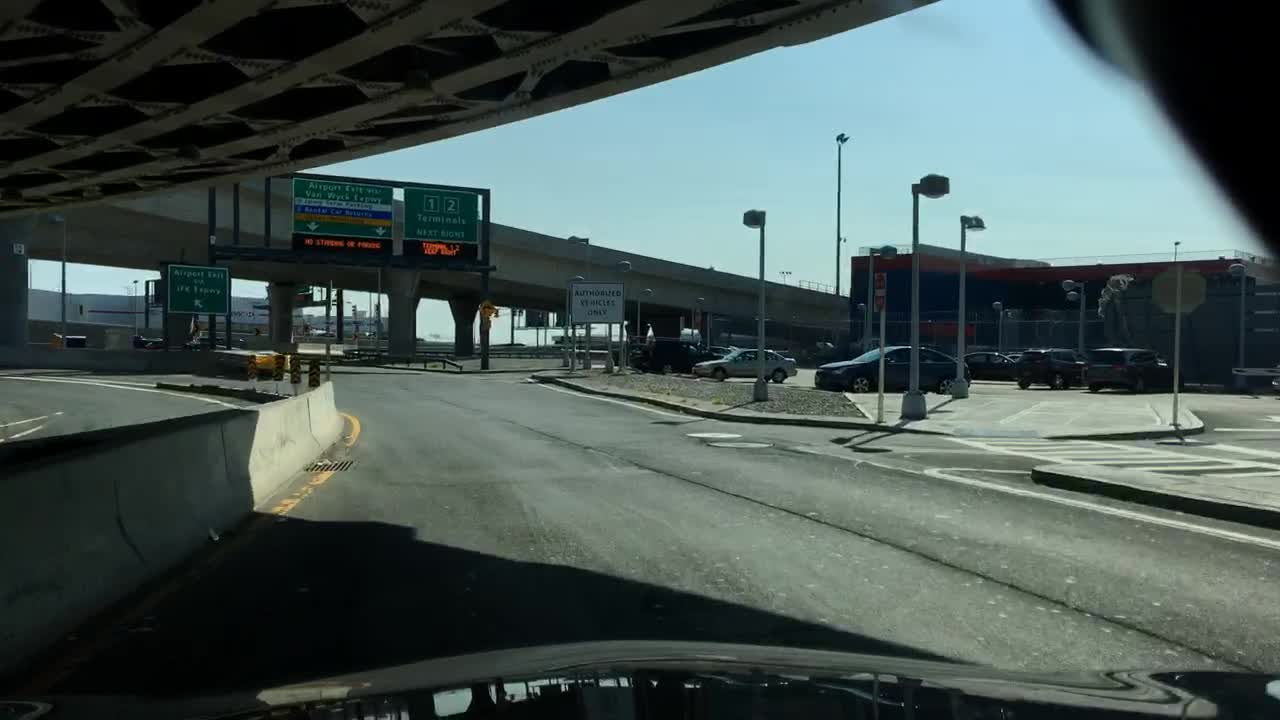car: (814, 346, 969, 393), (692, 348, 799, 383), (1089, 347, 1170, 393), (1016, 347, 1092, 389), (629, 341, 722, 375), (956, 351, 1024, 381), (708, 344, 734, 355), (307, 330, 333, 337), (1007, 351, 1024, 361)
traffic sign: (290, 178, 398, 260), (403, 187, 477, 269), (166, 266, 229, 315), (1150, 269, 1208, 314), (568, 280, 625, 323), (526, 309, 547, 326), (479, 300, 495, 317), (295, 284, 311, 293), (480, 319, 491, 329)
